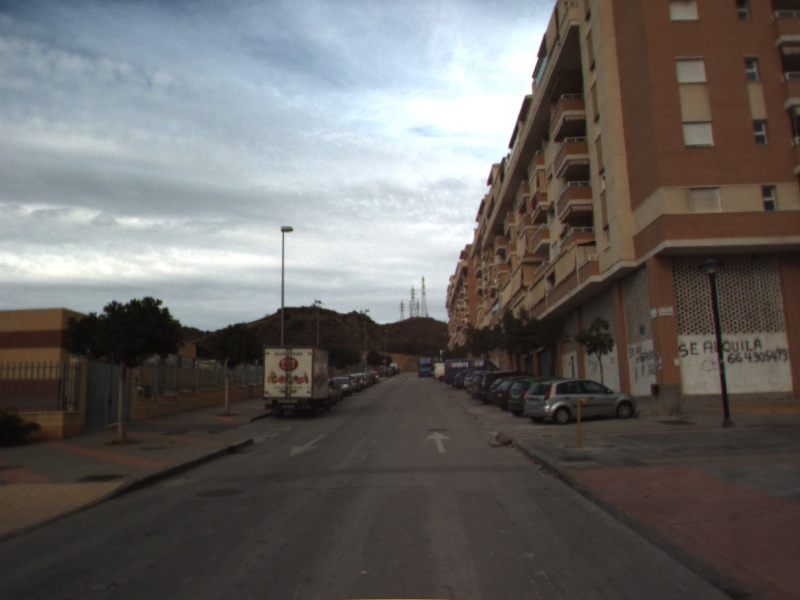STRAIGHT: (424, 429, 453, 455)
